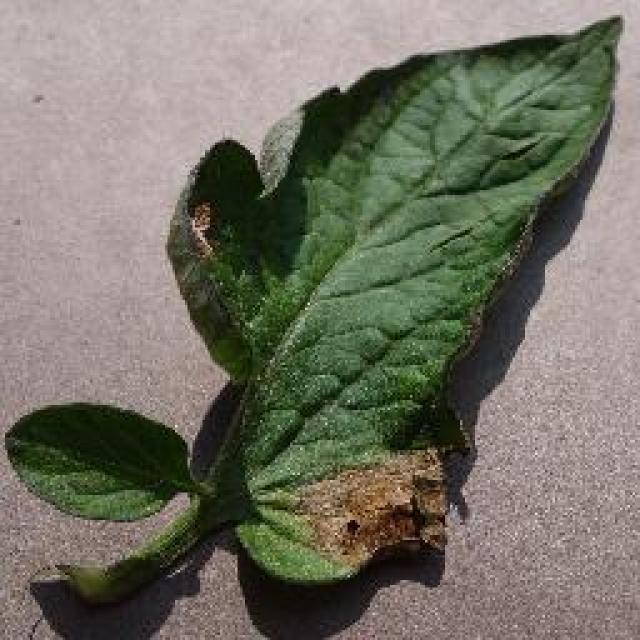Tomato Late Blight: (257, 393, 508, 560)
